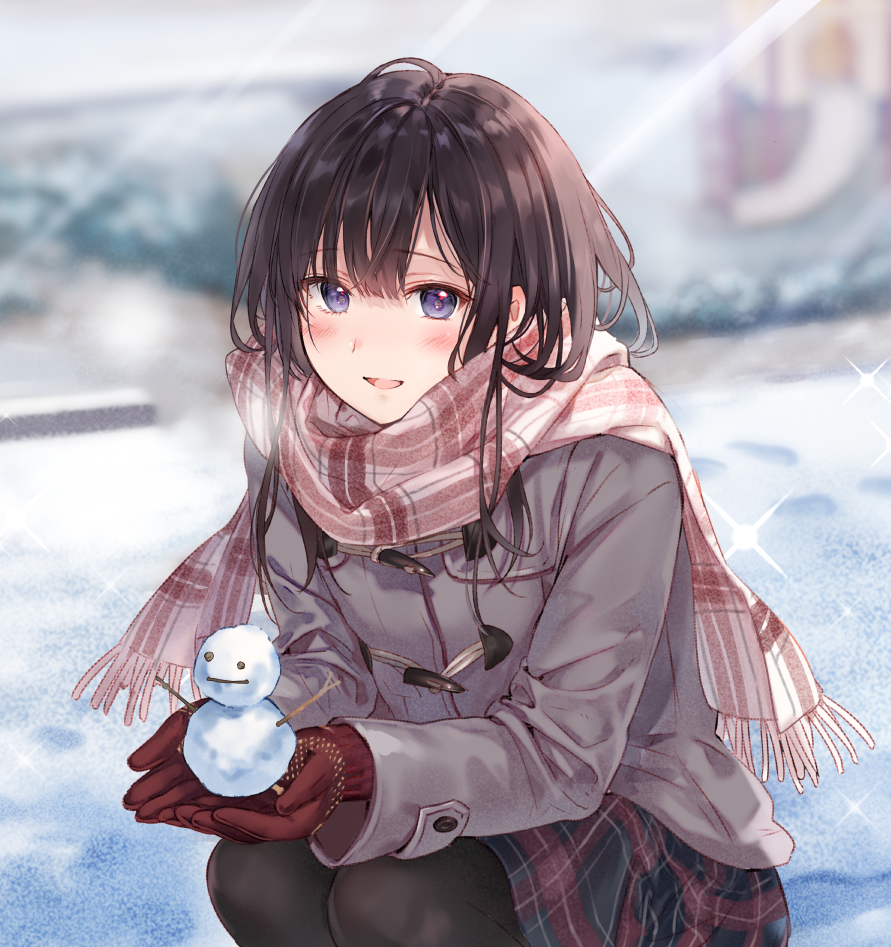纸片人正脸: (224, 46, 628, 441)
